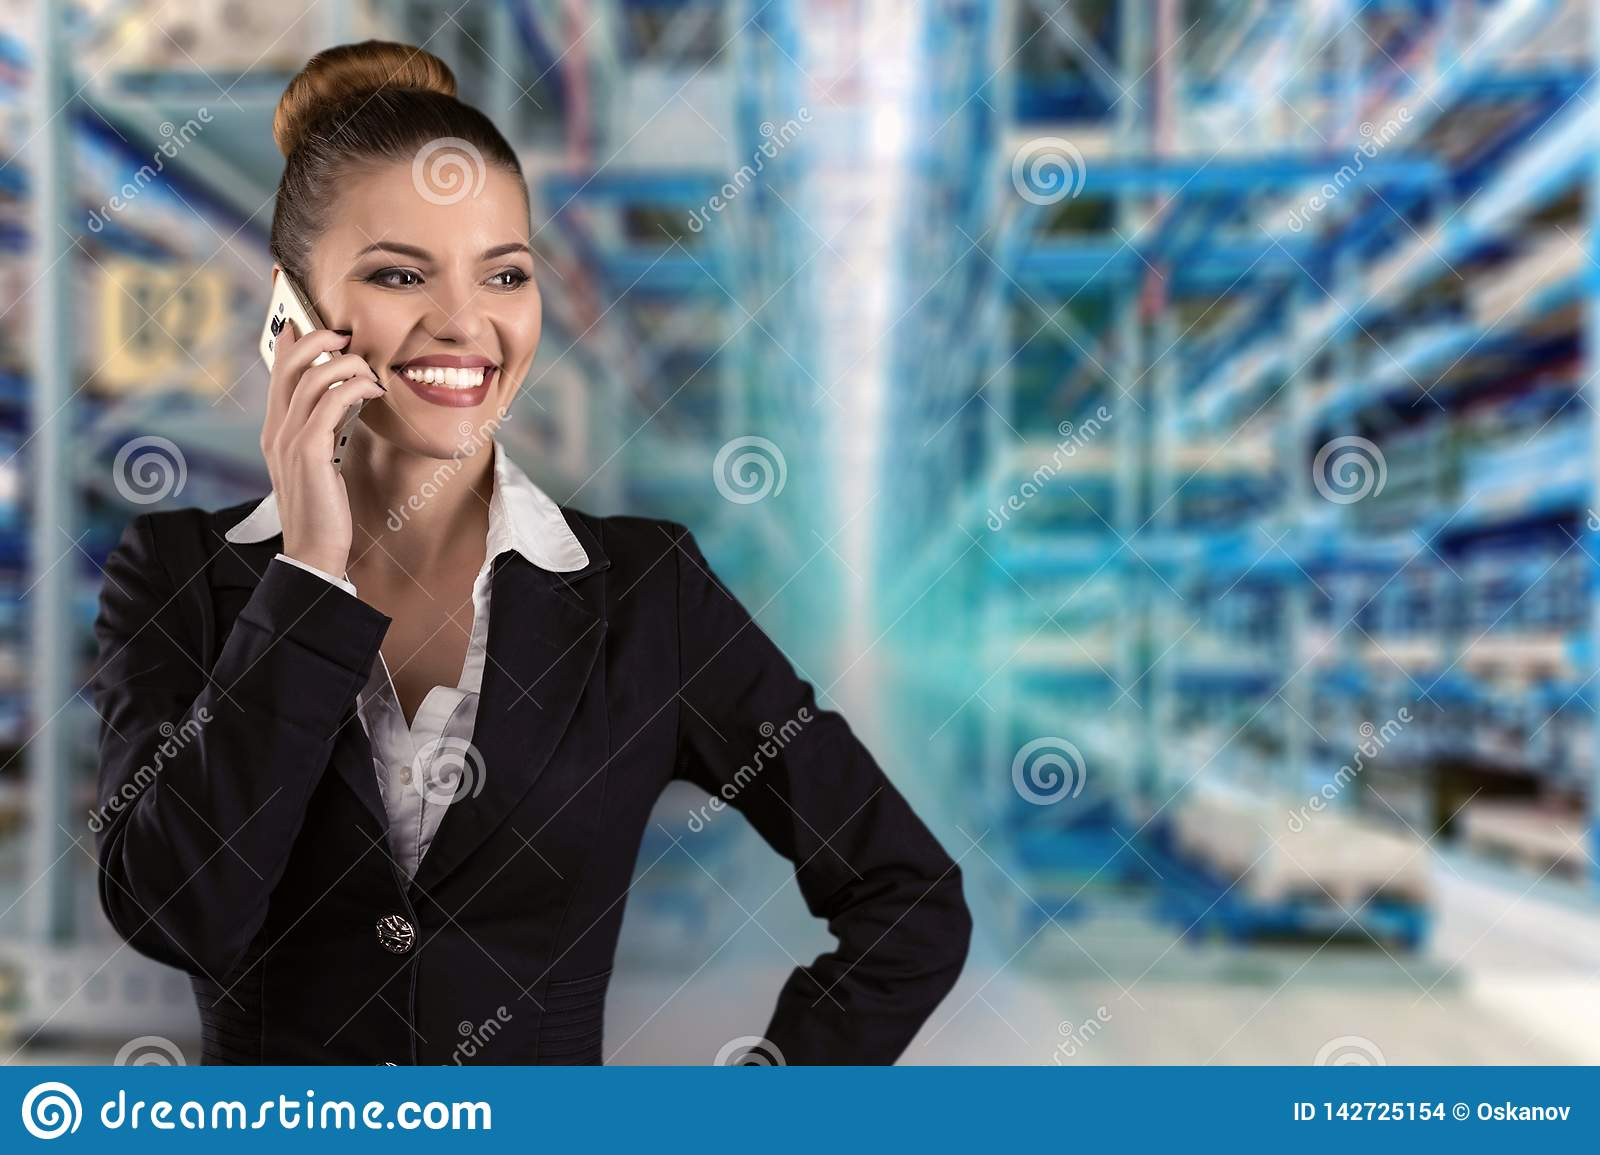phone: (258, 268, 364, 474)
talk: (258, 224, 542, 558)
